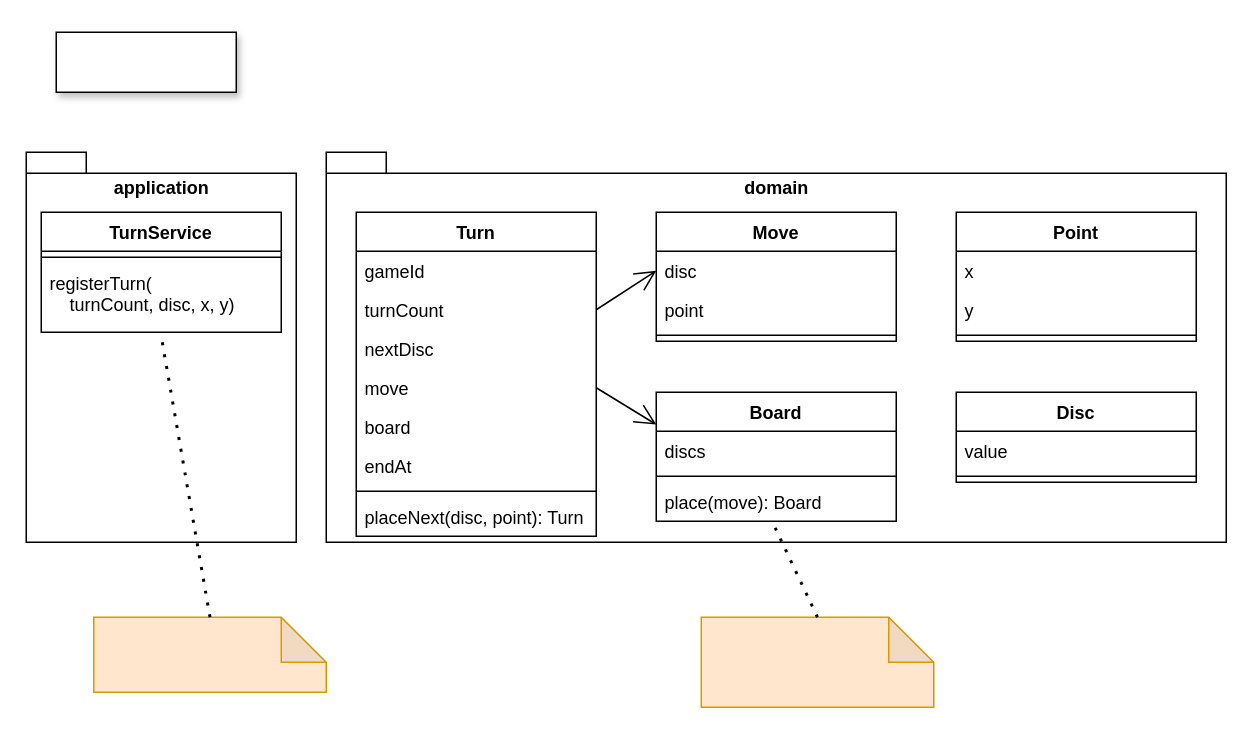
Image size: 1253x734. Some labels were removed from this diagram. Each missing label, with the centre of its shape:
"placeの内部では ・盤面に置けるかチェック ・石を置く ・ひっくり返す" belongs at point 817,661.
"ドメインモデル" belongs at point 147,64.
"・1つ前のターンを取得する ・石を置く ・ターンを保存する" belongs at point 209,654.
